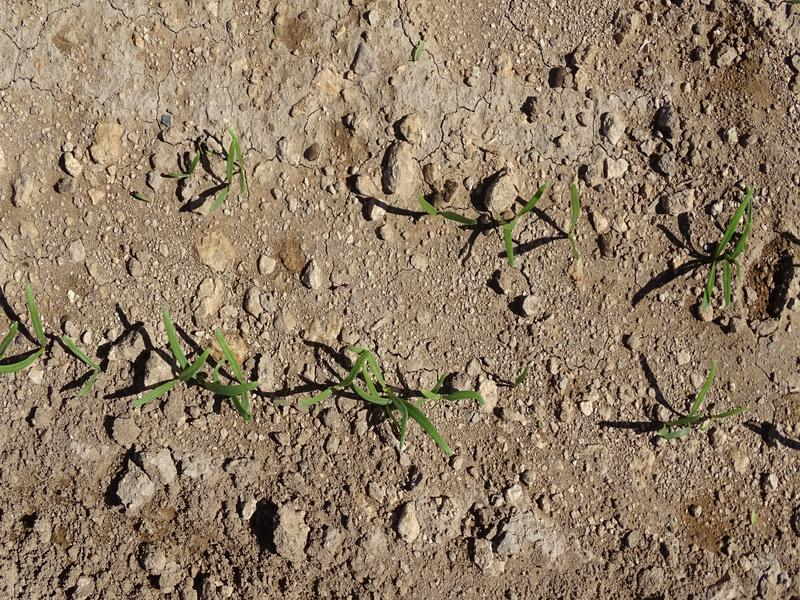Espinaca: (338, 346, 455, 455), (140, 318, 259, 415), (698, 186, 761, 313), (661, 362, 723, 437), (3, 285, 51, 375), (502, 184, 546, 267), (217, 128, 257, 204), (568, 190, 581, 253)
